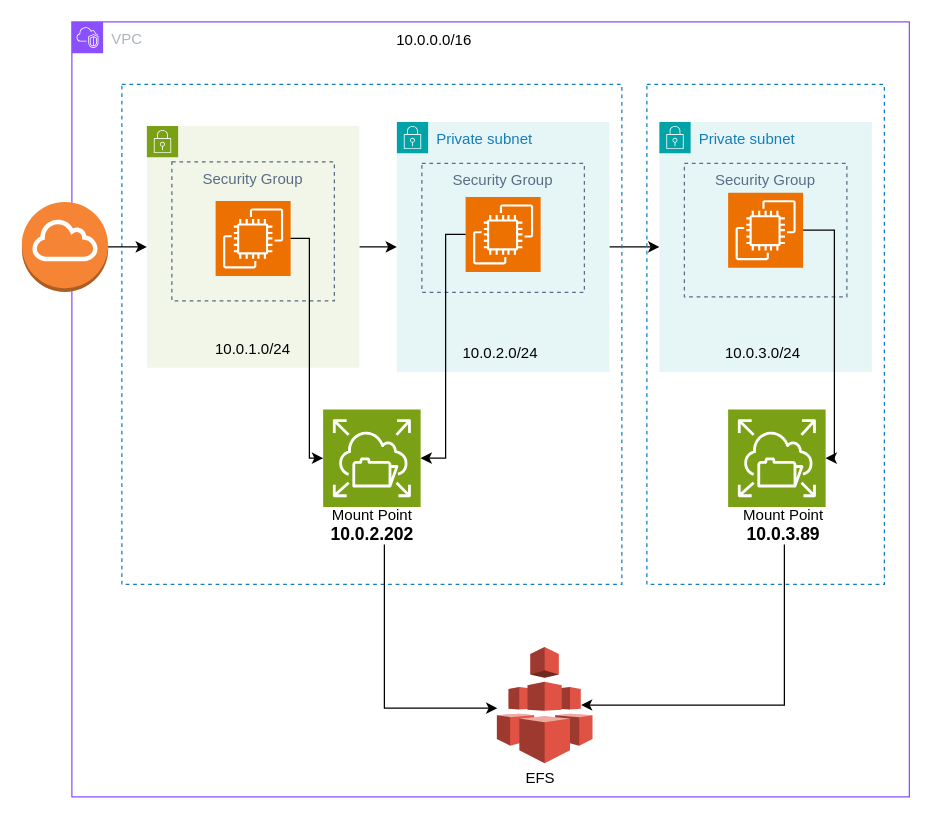
This 931x819 diagram has some shape labels left out. Each missing label, with the box of its shape:
ap-southeast-1a: (121, 83, 622, 584)
ap-southeast-1b: (646, 83, 884, 584)
Public subnet: (146, 125, 359, 368)
